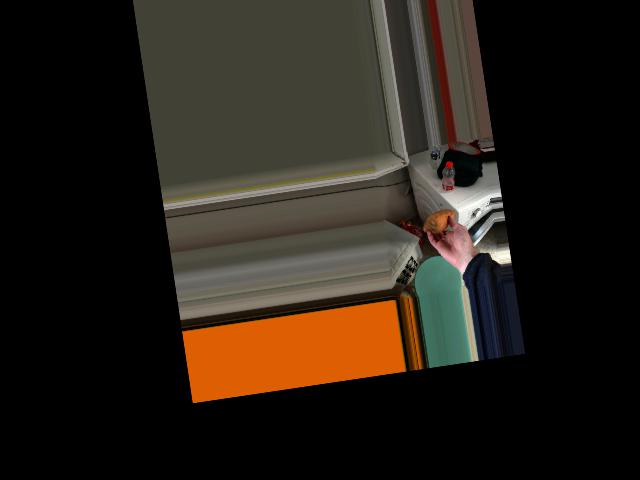sweet_potato: (424, 208, 456, 238)
